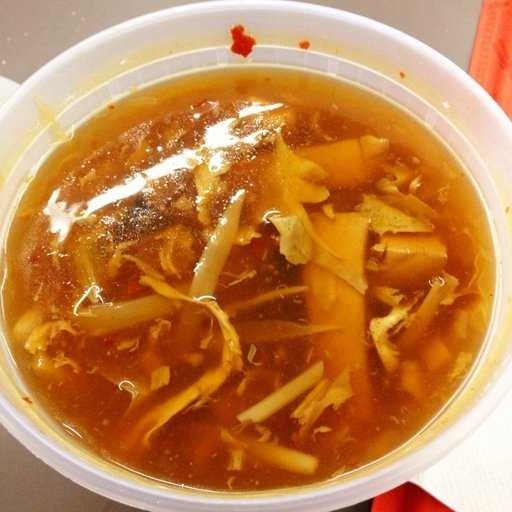soup: (4, 61, 471, 498)
